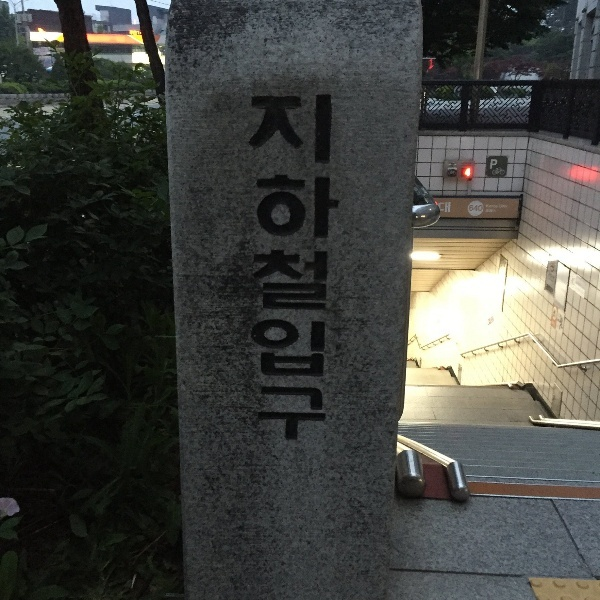text: (257, 91, 272, 447), (273, 91, 288, 447), (289, 91, 304, 447), (305, 91, 320, 447), (321, 91, 336, 447), (337, 91, 347, 447), (247, 91, 256, 447), (549, 271, 560, 285), (438, 202, 448, 214), (551, 319, 560, 329), (130, 30, 144, 36), (469, 205, 480, 212), (500, 204, 512, 209), (491, 159, 496, 170), (136, 30, 144, 36), (486, 209, 496, 213), (486, 204, 496, 208), (449, 202, 451, 214), (481, 205, 483, 212), (497, 159, 498, 170), (497, 204, 498, 208)
